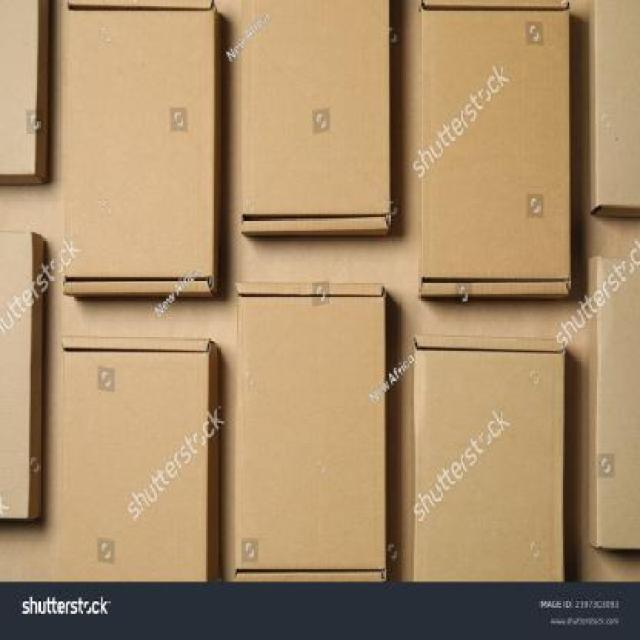BoxFace: (416, 1, 573, 302), (234, 280, 388, 582), (60, 0, 216, 294), (414, 334, 566, 586), (58, 338, 211, 579), (240, 0, 392, 237)
